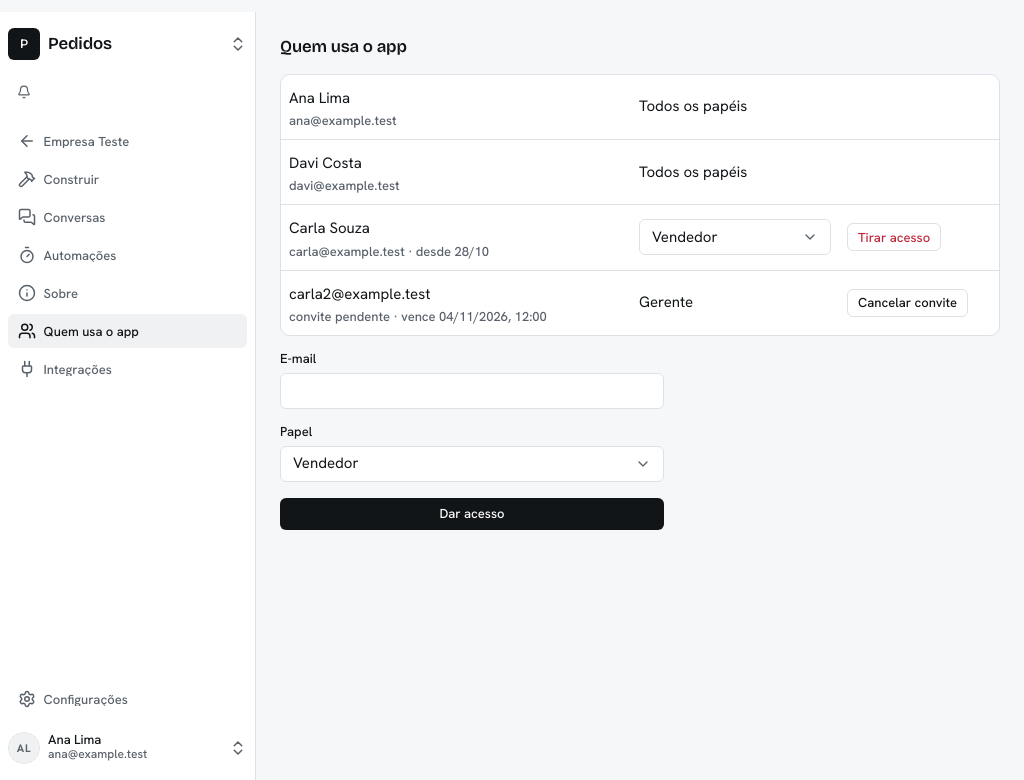
Test case: trocar o papel: o Select manda o PUT e a linha mostra "Salvo"
The width and height of the screenshot is (1024, 780).
Expected: the heading "Quem usa o app" is shown, [280,36,407,57]
Expected: the text "Salvo" is not shown
Click the dropdown named "Papel de Carla Souza". click: (735,238)
box: [639,220,831,256]
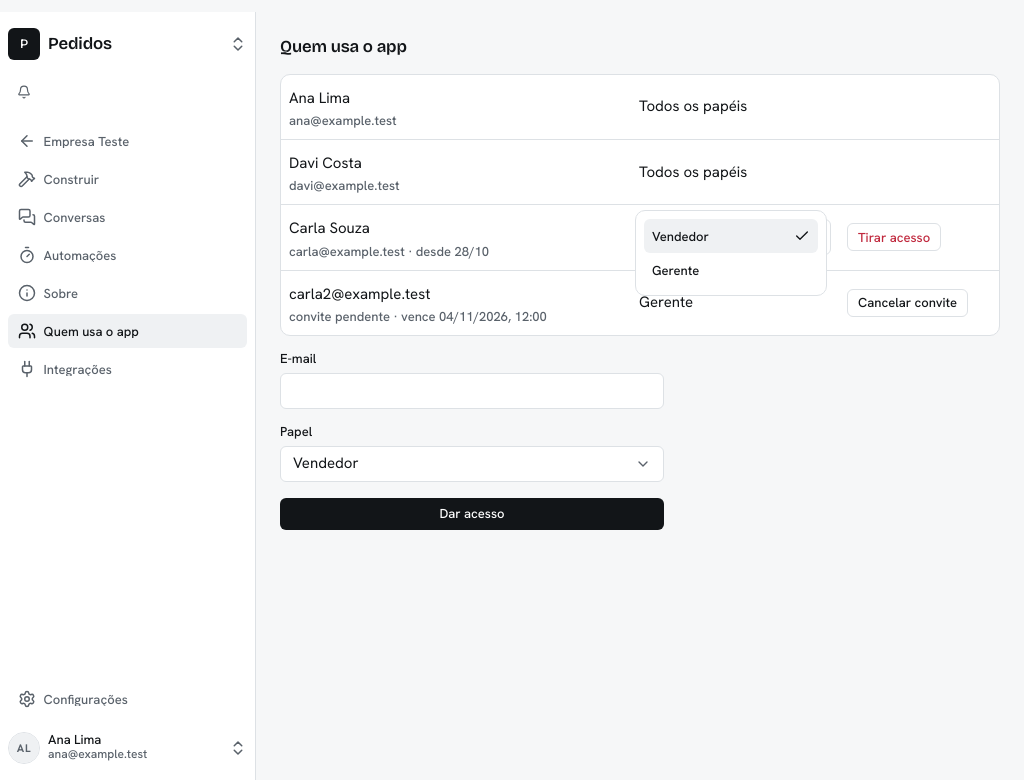
Press the mouse on the option "Gerente" at (676,270), box [652,262,699,279]
Click the option "Gerente". click: (676,270)
box: [652,262,699,279]
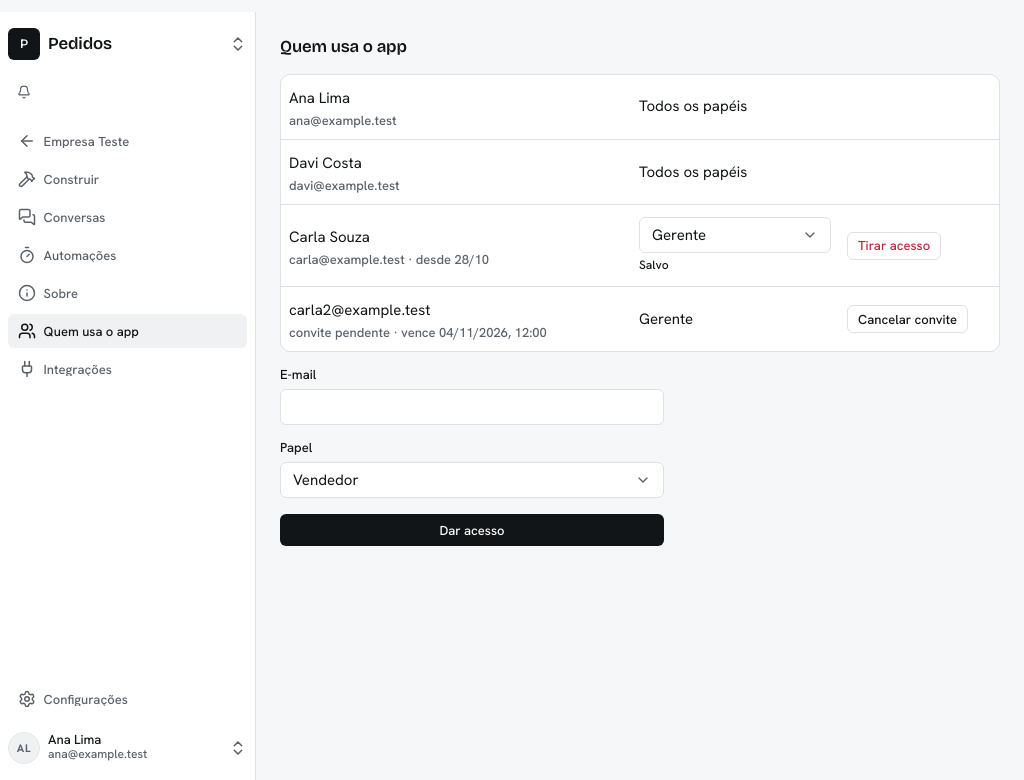
Result: the text "Salvo" is shown at [639,257,669,273]
